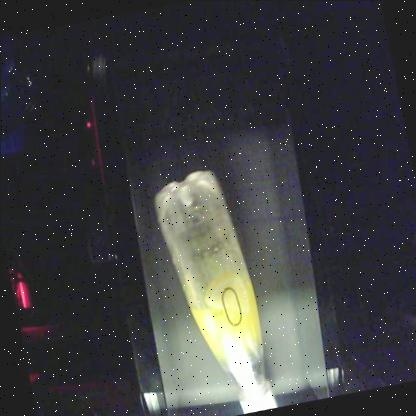Plastic Bottle: (154, 170, 274, 410)
